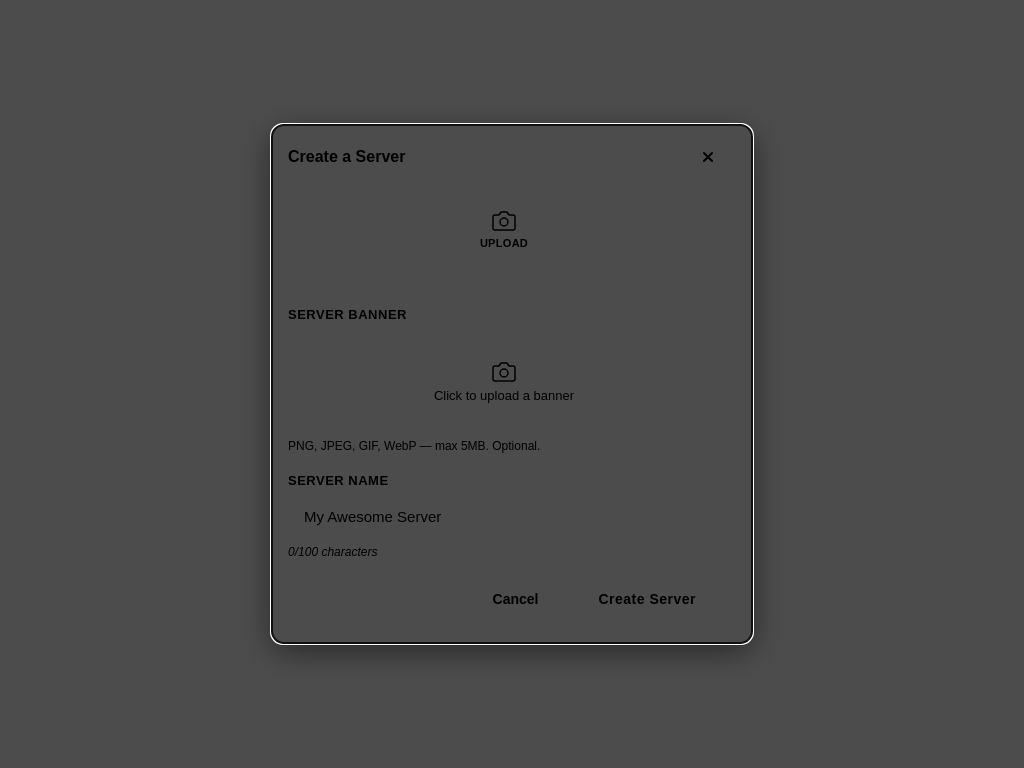
Scenario: CreateServerModal › shows error on API failure
The image size is (1024, 768).
In the field with placeholder "My Awesome Server": (520, 516) [288,496,752,537], type "My Server"
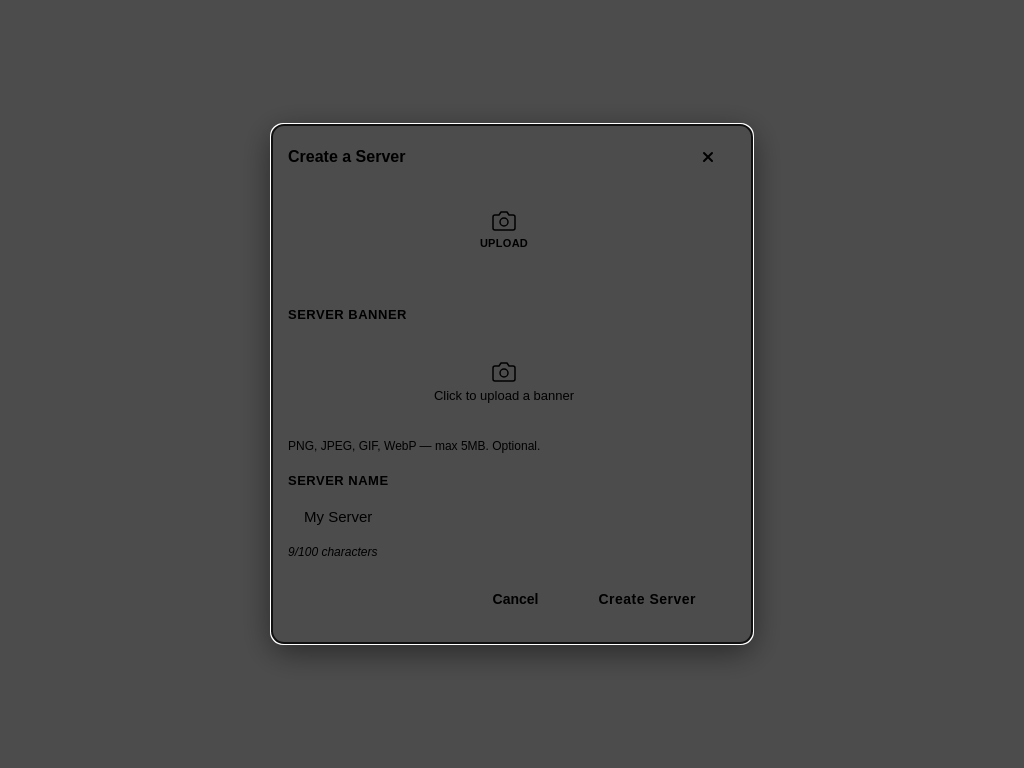
Click the button "Create Server": (647, 599) [574,579,720,619]
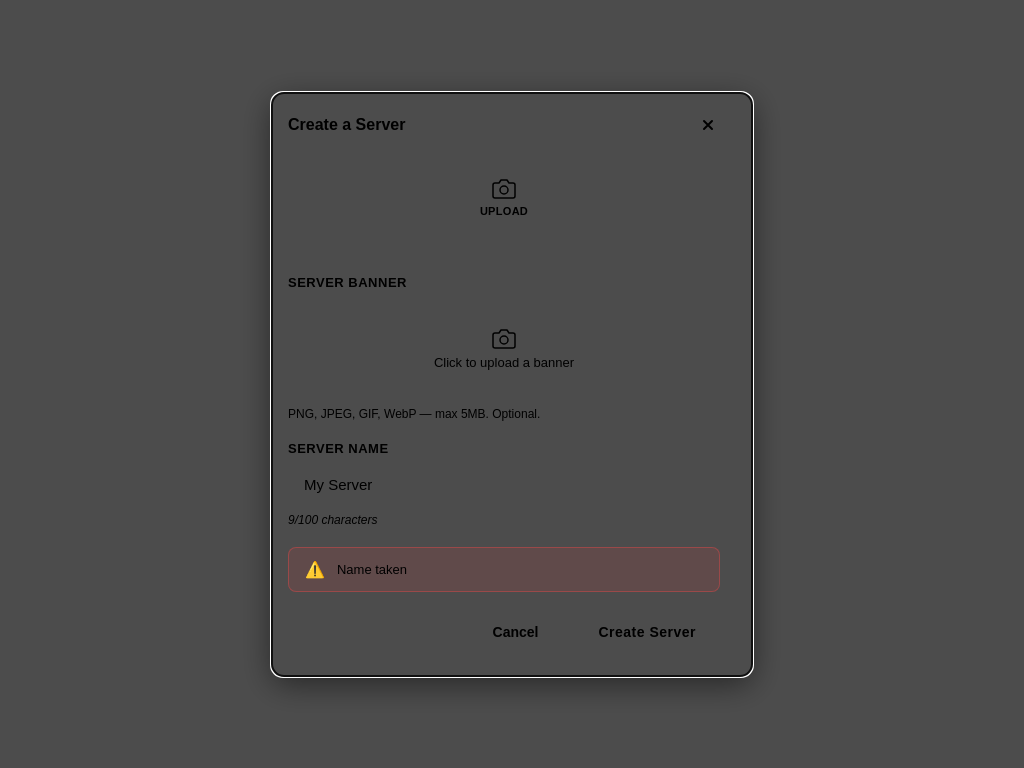
Check: the text "Name taken" is shown, box [337,562,407,576]
